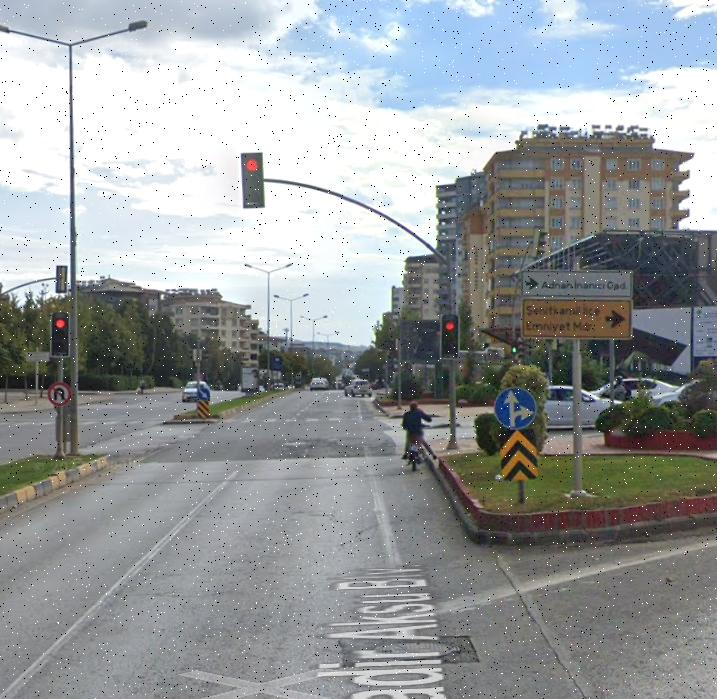redlight: (242, 153, 265, 210), (440, 311, 460, 360), (51, 312, 68, 357)
